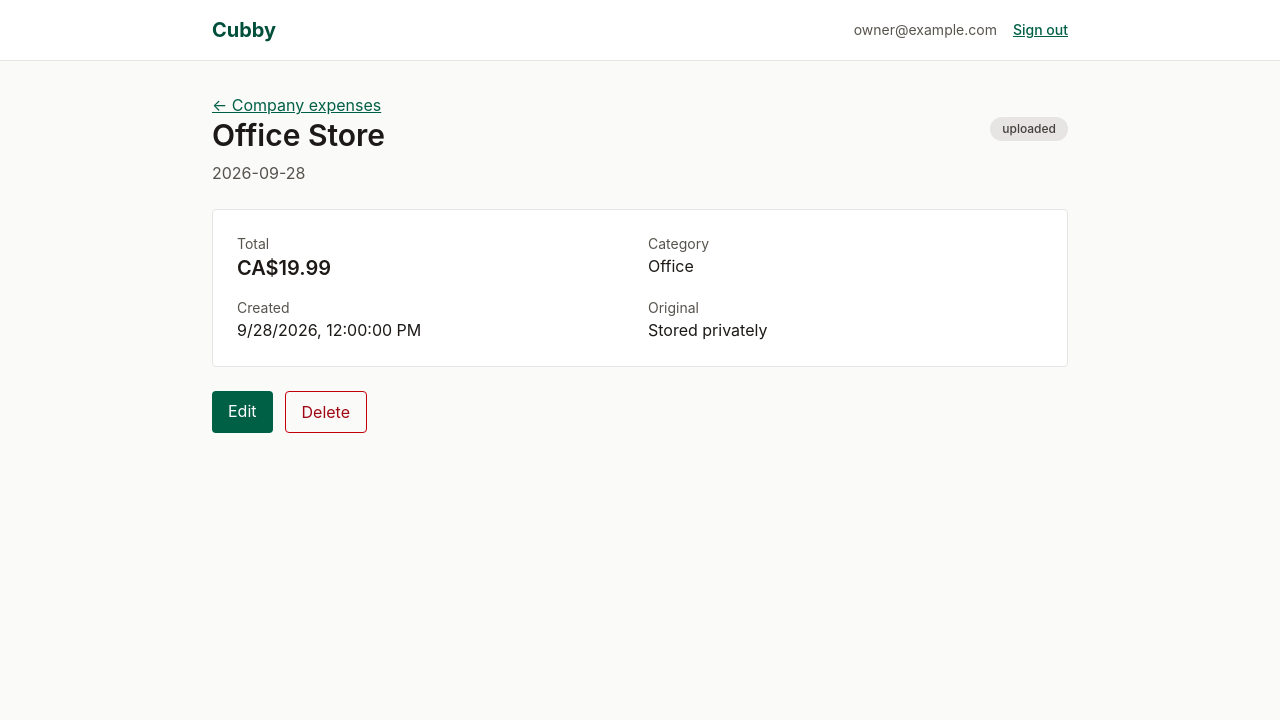
it: receipt screens › keeps detail visible when deletion fails
The image size is (1280, 720).
Click the button "Delete". click: click(326, 412)
box: [284,391,367,433]
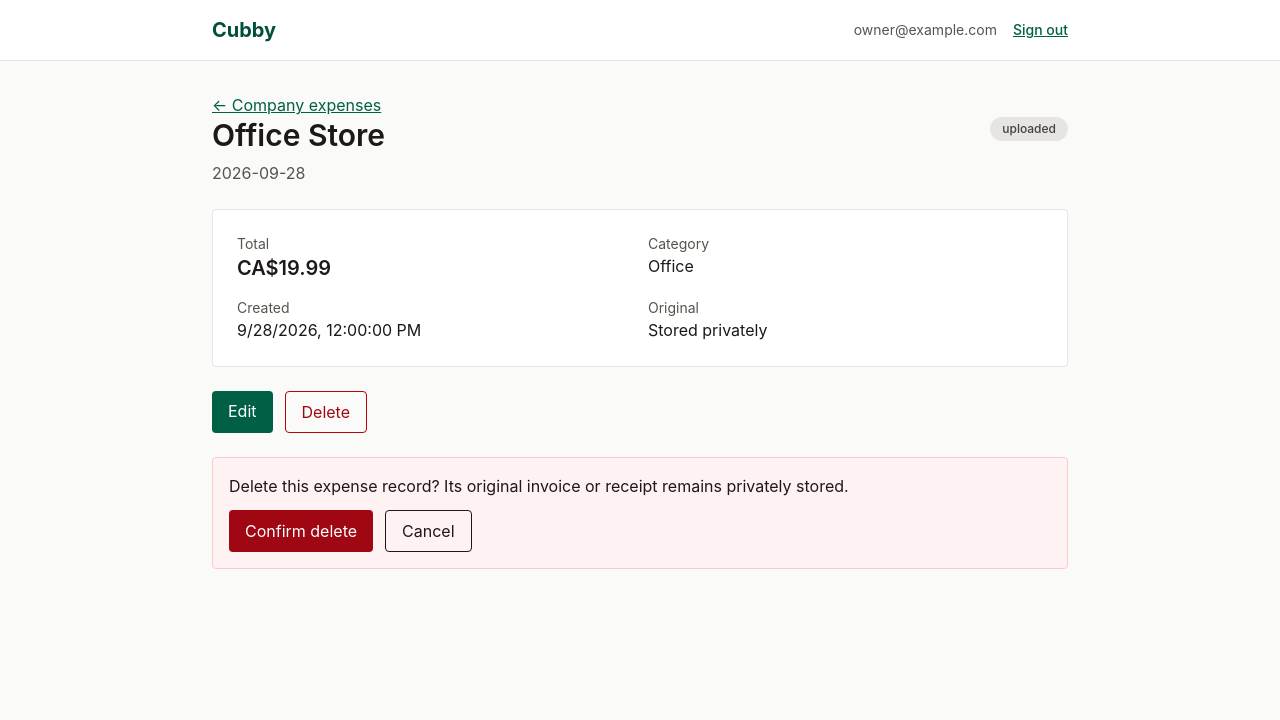
Click the button "Confirm delete". click: click(301, 531)
box: [229,510,373,552]
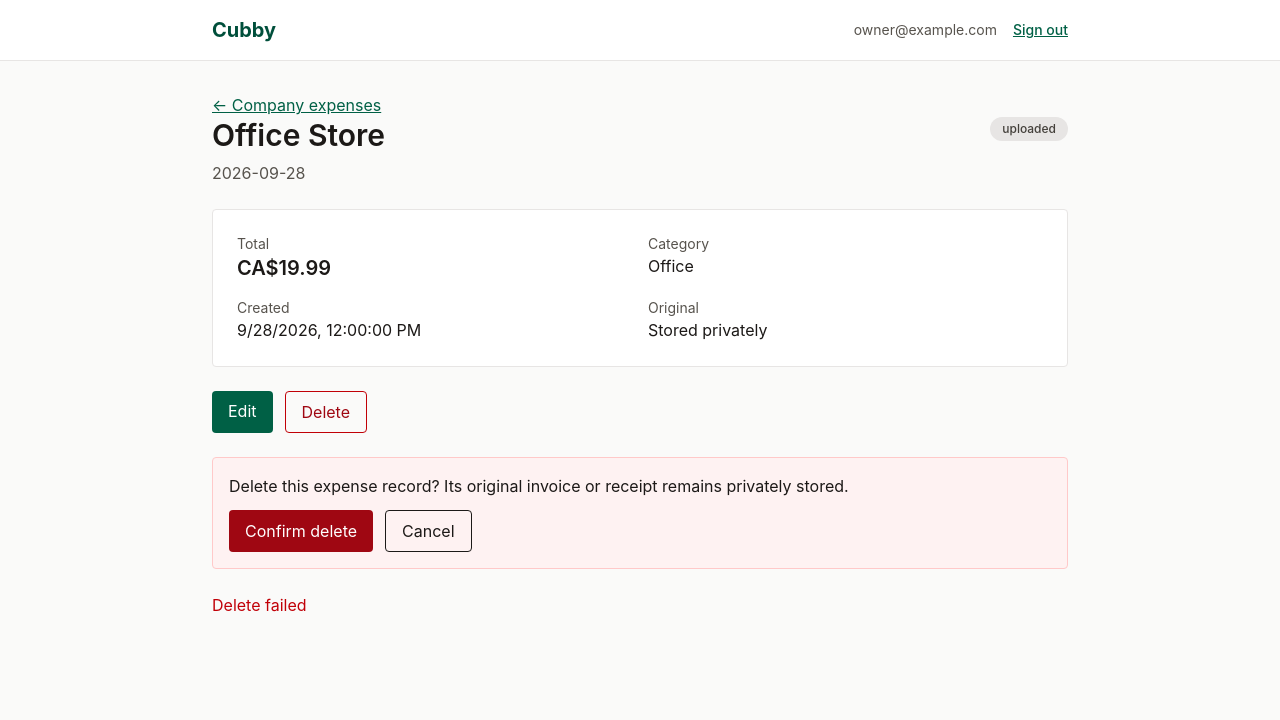
Expected: the heading "Office Store" is shown, [212,117,385,153]
Expected: the message reads "Delete failed", [212,595,306,615]
